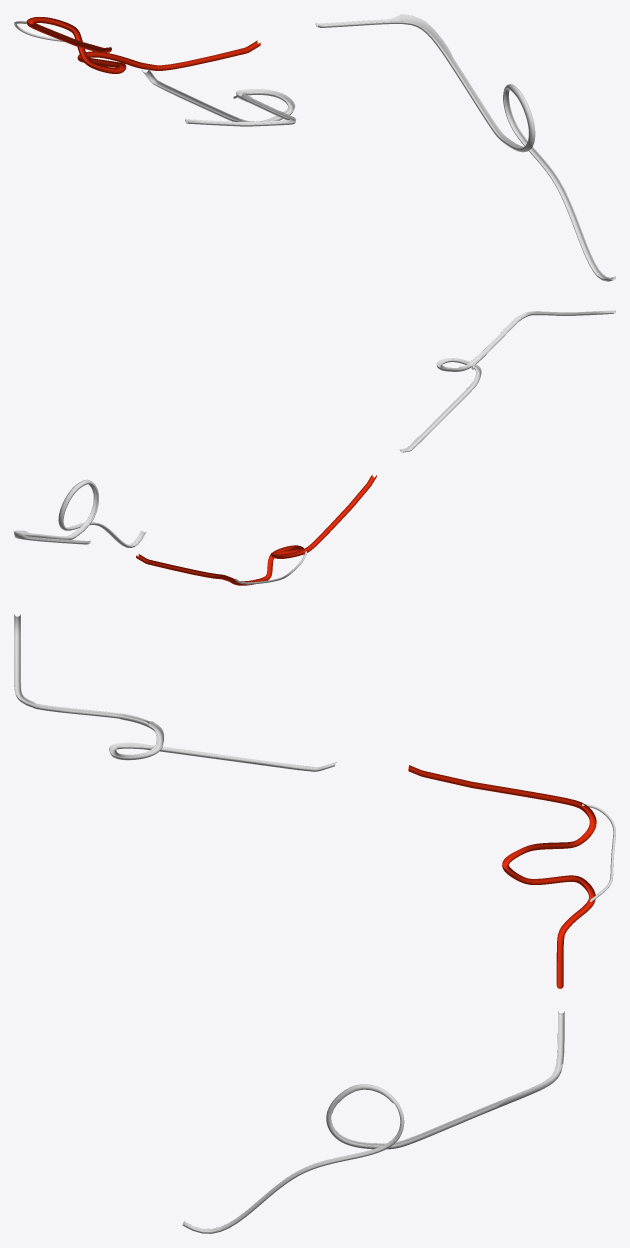
The model's file is marble race3.fbx.
3 renders of one model, top to bottom at view 1: azimuth 30°, elevation 25°; view 2: azimuth 150°, elevation 25°; view 3: azimuth 270°, elevation 25°, orthographic. The views are drawn at different scales.
Parts seen in each view (by area): view 1: NurbsPath.014, NurbsPath.018, NurbsPath.012; view 2: NurbsPath.012, NurbsPath.018, NurbsPath.014; view 3: NurbsPath.014, NurbsPath.018, NurbsPath.012.
Part boxes in pixels (bbox=[...]): NurbsPath.014: bbox=[315, 14, 615, 281]; NurbsPath.018: bbox=[26, 17, 260, 73]; NurbsPath.012: bbox=[142, 68, 296, 126]; NurbsPath.012: bbox=[399, 310, 615, 452]; NurbsPath.018: bbox=[136, 474, 376, 585]; NurbsPath.014: bbox=[14, 479, 146, 547]; NurbsPath.014: bbox=[182, 1011, 564, 1233]; NurbsPath.018: bbox=[408, 765, 596, 988]; NurbsPath.012: bbox=[14, 614, 336, 771].
Bounding box in the file's own units: 885383 × 577627 × 868613.
